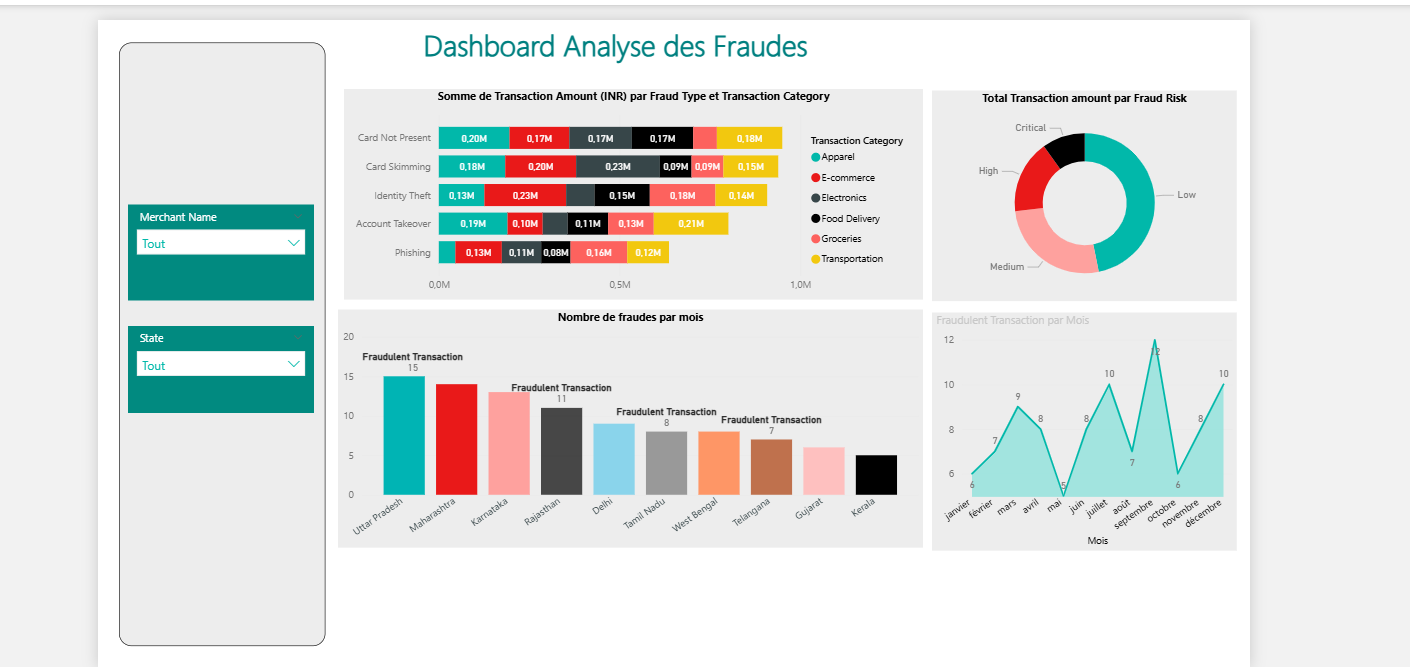

This screenshot's page, from the dashboard's own definition file:
{"tool":"powerbi","page":{"name":"Page 1","canvas":[1280,720],"ordinal":0},"visuals":[{"type":"clusteredColumnChart","title":"Nombre de fraudes par mois","fields":{"Category":["Credit Card Fraud Risk Analysis.State"],"Y":["Credit Card Fraud Risk Analysis.Fraudulent Transaction"]},"box":[266.1,322,650,264.5],"z":0},{"type":"donutChart","fields":{"Category":["Credit Card Fraud Risk Analysis.Fraud Risk"],"Y":["Credit Card Fraud Risk Analysis.Total Transaction amount"]},"box":[927.4,79,338.7,233.9],"z":1000},{"type":"textbox","box":[357.1,0,500,67.1],"z":2000},{"type":"textbox","box":[22.6,24.2,229,671],"z":3000},{"type":"slicer","fields":{"Values":["Credit Card Fraud Risk Analysis.Merchant Name"]},"box":[33.9,204.8,206.5,106.5],"z":4000},{"type":"slicer","fields":{"Values":["Credit Card Fraud Risk Analysis.State"]},"box":[33.9,340.3,206.5,96.8],"z":5000},{"type":"barChart","fields":{"Category":["Credit Card Fraud Risk Analysis.Fraud Type"],"Y":["Sum(Credit Card Fraud Risk Analysis.Transaction Amount (INR))"],"Series":["Credit Card Fraud Risk Analysis.Transaction Category"]},"box":[272.6,76.9,643.5,233.9],"z":6000},{"type":"lineChart","fields":{"Y":["Credit Card Fraud Risk Analysis.Fraudulent Transaction"],"Category":["Credit Card Fraud Risk Analysis.Transaction Date.Variation.Hiérarchie de dates.Mois"]},"box":[927.4,324.2,338.7,264.5],"z":7000}]}

Visuals, with their boxes on the page's 1280x720 design canvas (x1, y1, x2, y2). These are canvas units, not pixel positions in the 1410x667 screenshot, which may show the page scaled, cropped or inside an application window:
"Nombre de fraudes par mois" clusteredColumnChart: [left=266, top=322, right=916, bottom=586]
donutChart - Credit Card Fraud Risk Analysis.Fraud Risk x Credit Card Fraud Risk Analysis.Total Transaction amount: [left=927, top=79, right=1266, bottom=313]
textbox: [left=357, top=0, right=857, bottom=67]
textbox: [left=23, top=24, right=252, bottom=695]
slicer - Credit Card Fraud Risk Analysis.Merchant Name: [left=34, top=205, right=240, bottom=311]
slicer - Credit Card Fraud Risk Analysis.State: [left=34, top=340, right=240, bottom=437]
barChart - Credit Card Fraud Risk Analysis.Fraud Type x Sum(Credit Card Fraud Risk Analysis.Transaction Amount (INR)): [left=273, top=77, right=916, bottom=311]
lineChart - Credit Card Fraud Risk Analysis.Fraudulent Transaction x Credit Card Fraud Risk Analysis.Transaction Date.Variation.Hiérarchie de dates.Mois: [left=927, top=324, right=1266, bottom=589]
